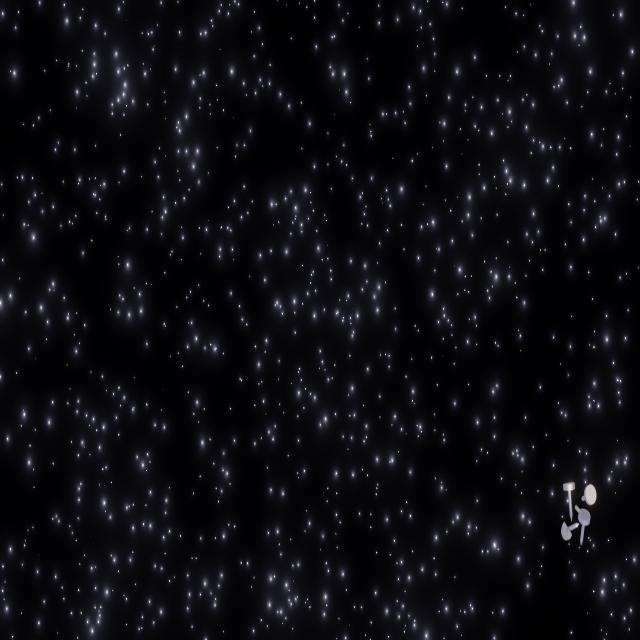large_debris: (557, 480, 597, 546)
